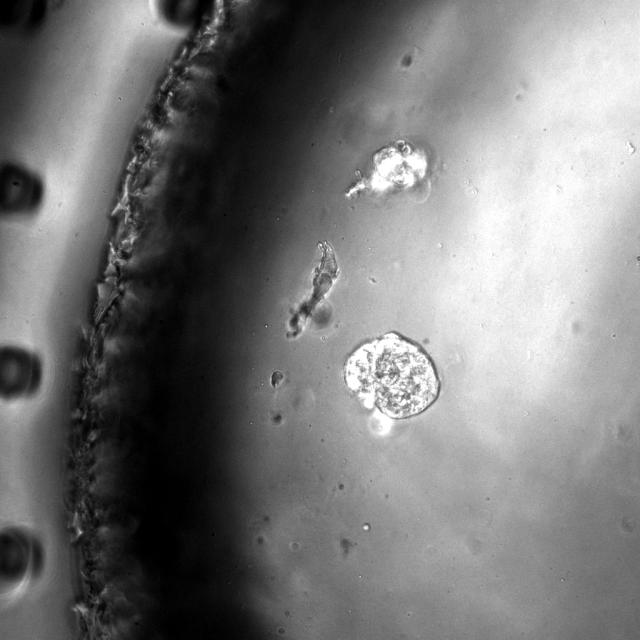organoid: (343, 332, 439, 419), (345, 139, 428, 197), (288, 242, 337, 337), (270, 370, 284, 388)
